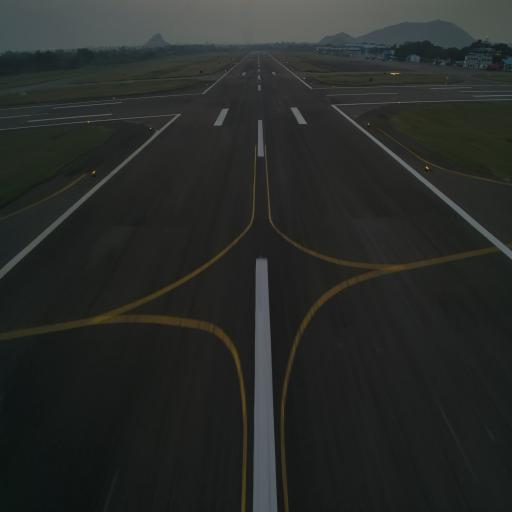on: (424, 160, 430, 172), (91, 167, 96, 177), (148, 124, 154, 132), (366, 120, 371, 127)
